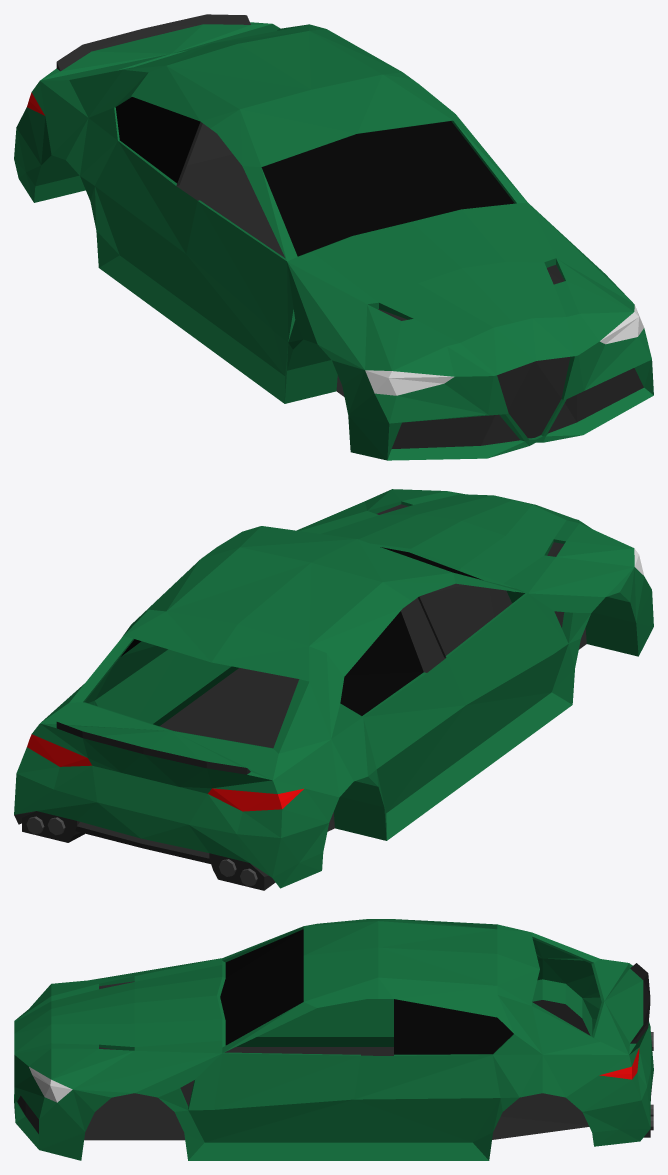
The model's file is giulia.glb.
3 renders of one model, top to bottom at view 1: azimuth 30°, elevation 25°; view 2: azimuth 150°, elevation 25°; view 3: azimuth 270°, elevation 25°, orthographic. The views are drawn at different scales.
Visible parts, largest first — view 1: Cube; view 2: Cube; view 3: Cube.
Boxes of the visible parts, x1,y1,x2,y2 form: Cube: [14, 14, 653, 460]; Cube: [14, 489, 653, 890]; Cube: [14, 919, 653, 1160].
Size of the model in its own units: 1.86 by 1.19 by 4.42.
